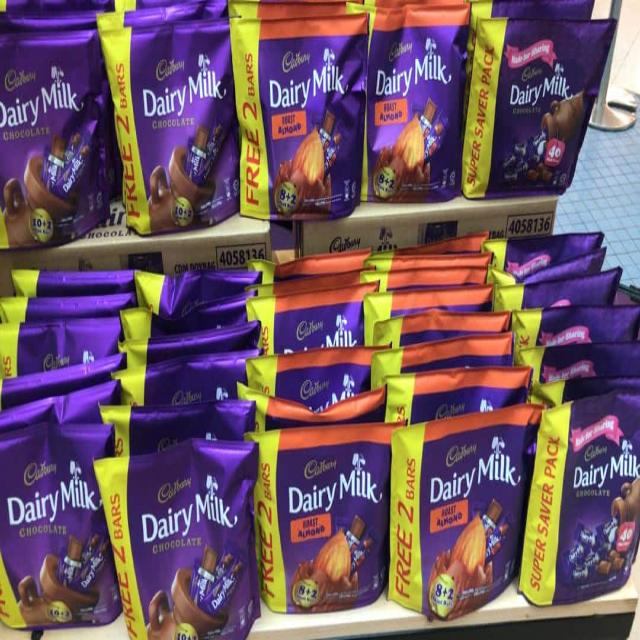cadbury: (389, 412, 547, 618), (97, 457, 268, 640), (105, 13, 244, 225), (250, 427, 400, 609), (234, 0, 362, 211), (0, 428, 127, 630), (524, 385, 640, 606), (0, 22, 121, 230), (352, 2, 464, 204), (474, 21, 598, 201)
